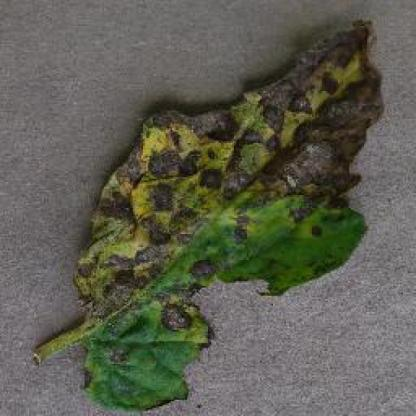Tomato_Blight: (74, 19, 384, 410)
